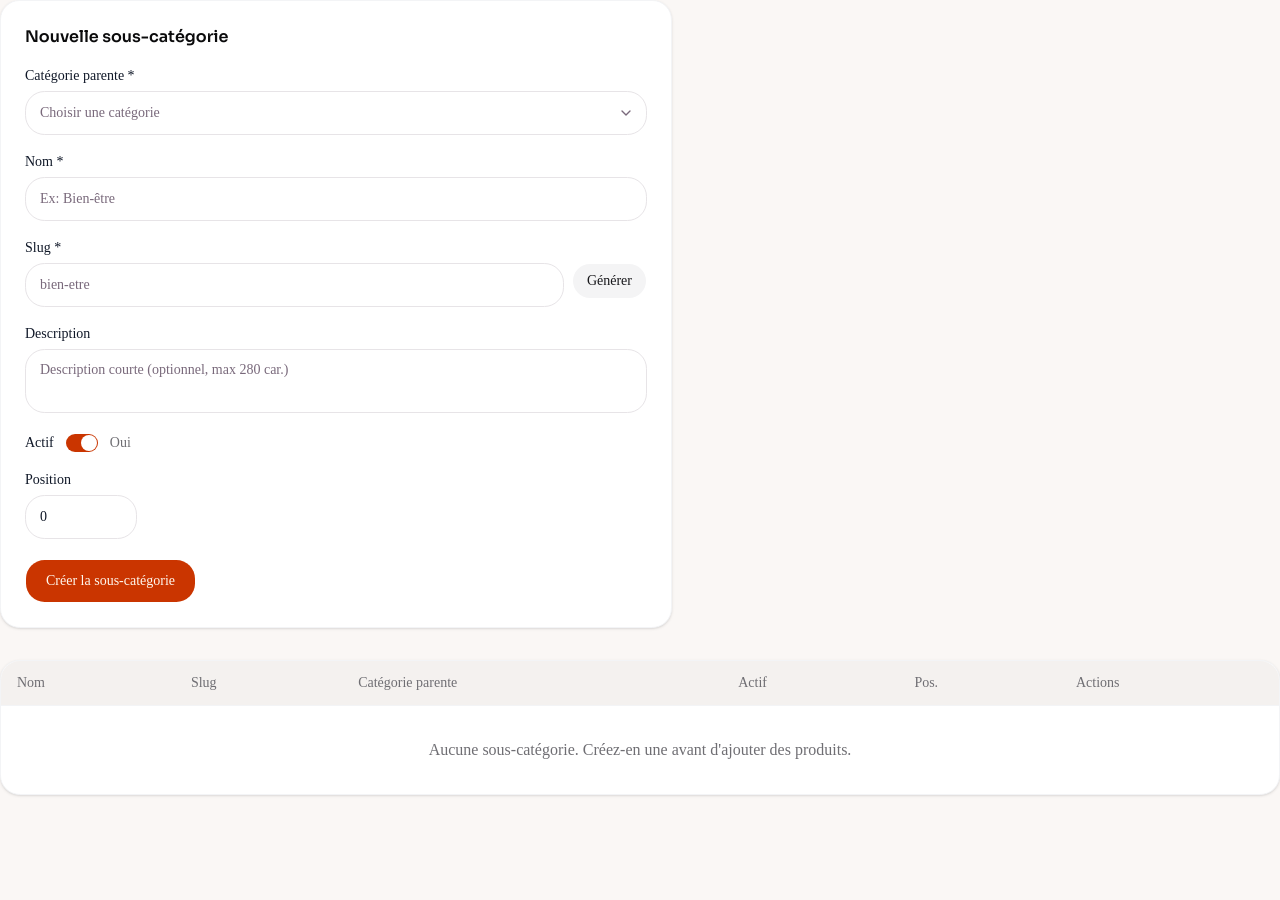
Test: SousCategoriesManager › refuse la création avec un nom vide — create n'est pas appelé
The width and height of the screenshot is (1280, 900).
Note: Soumettre sans remplir le nom (valeur par défaut : "").
Click the button "Créer la sous-catégorie".
click(111, 581)  # box [25,559,196,603]
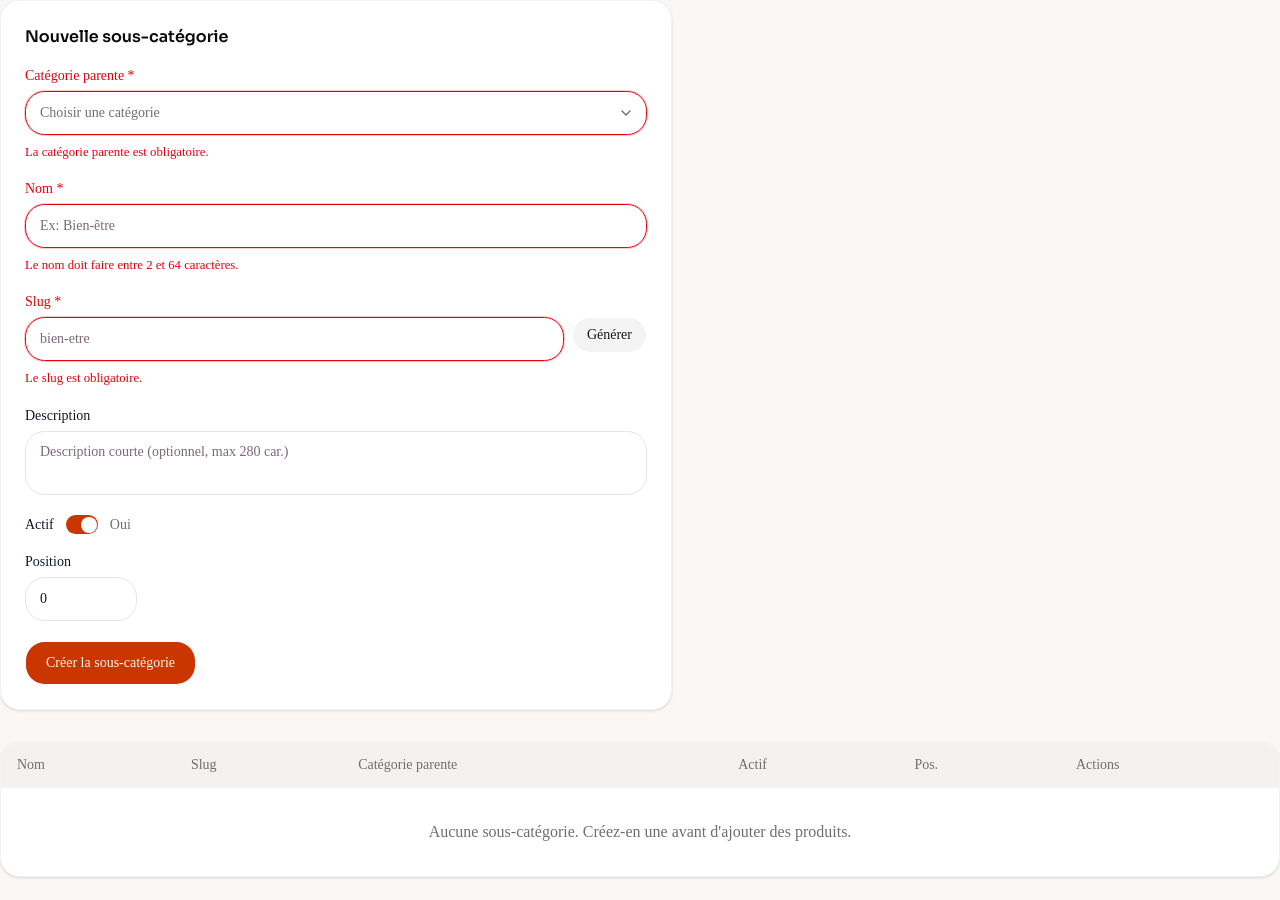
Result: the text "Le nom doit faire entre 2 et 64 caractères." is shown at [25,258,238,272]
